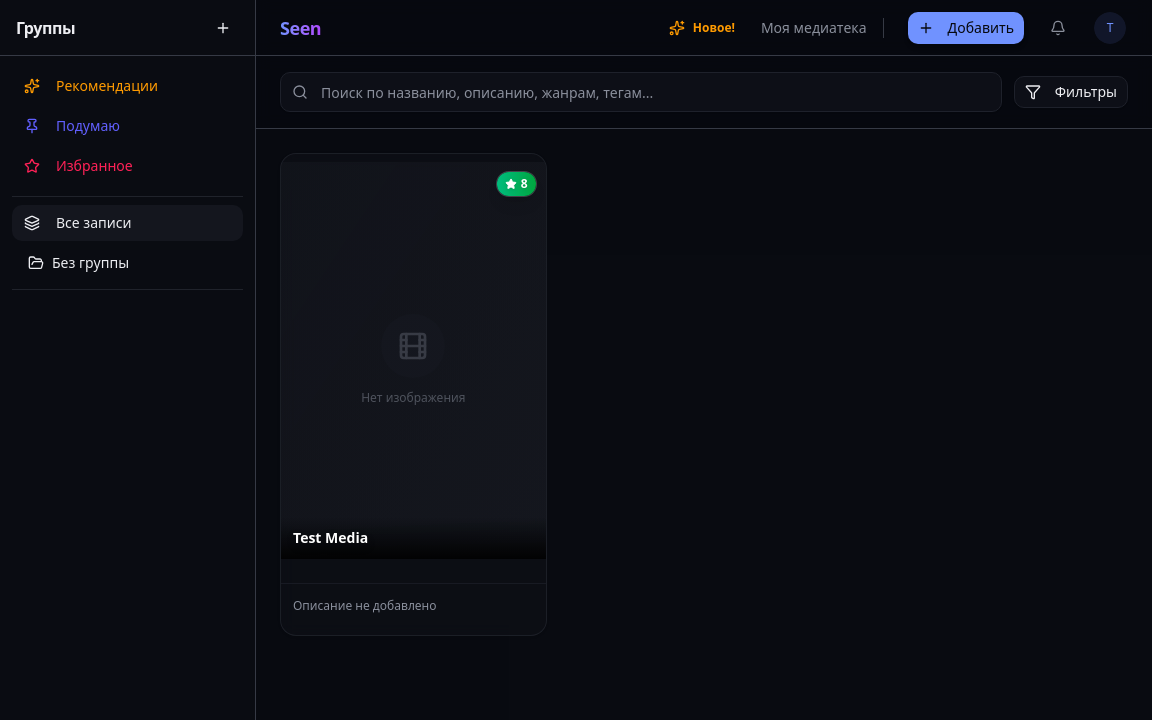
Test: HomePage › should open create group modal
This screenshot has width=1152, height=720.
Click the button named "Создать группу". click: x=223, y=28
box: [207, 12, 239, 44]
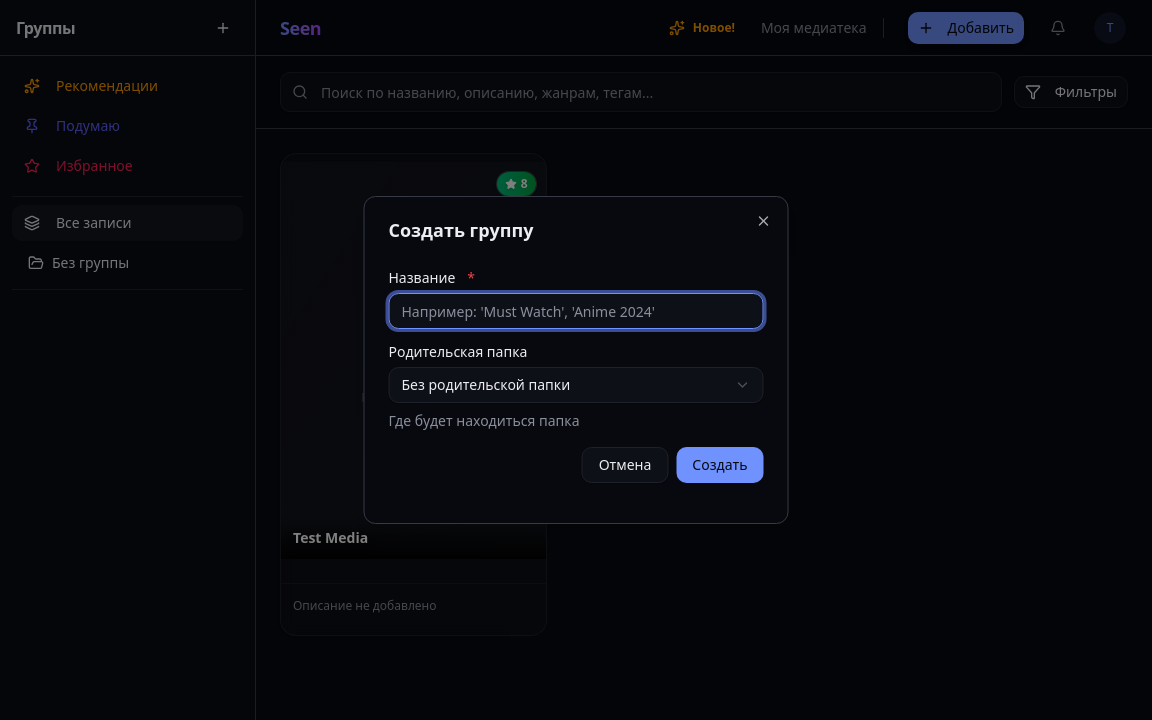
Result: the dialog "Создать группу" is shown at [364, 196, 788, 524]
